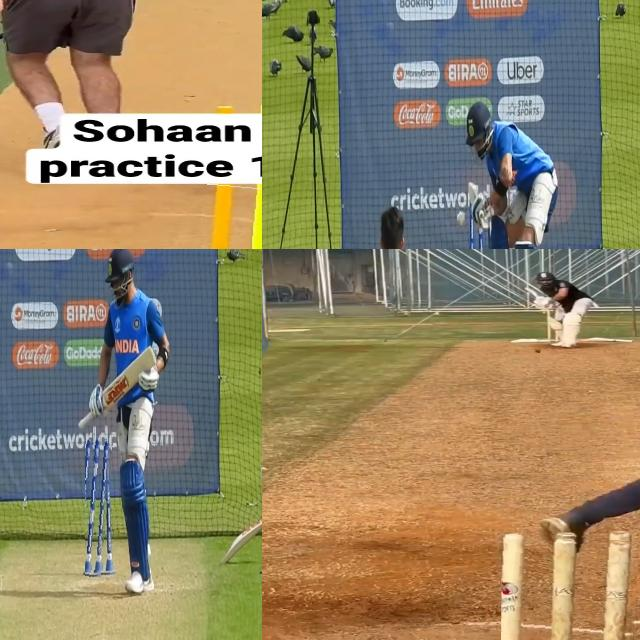Cricket ball: (456, 208, 469, 230), (533, 347, 541, 353)
Stumps: (501, 530, 640, 640), (201, 183, 262, 249), (85, 438, 113, 580)
